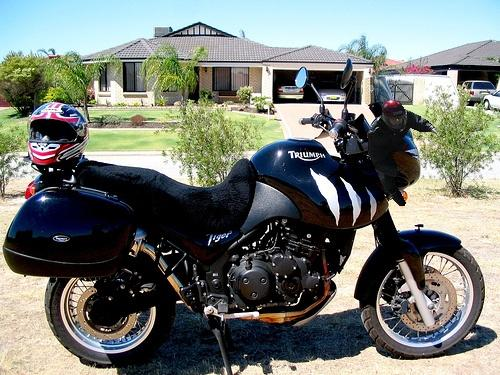tampered: (368, 100, 439, 206)
